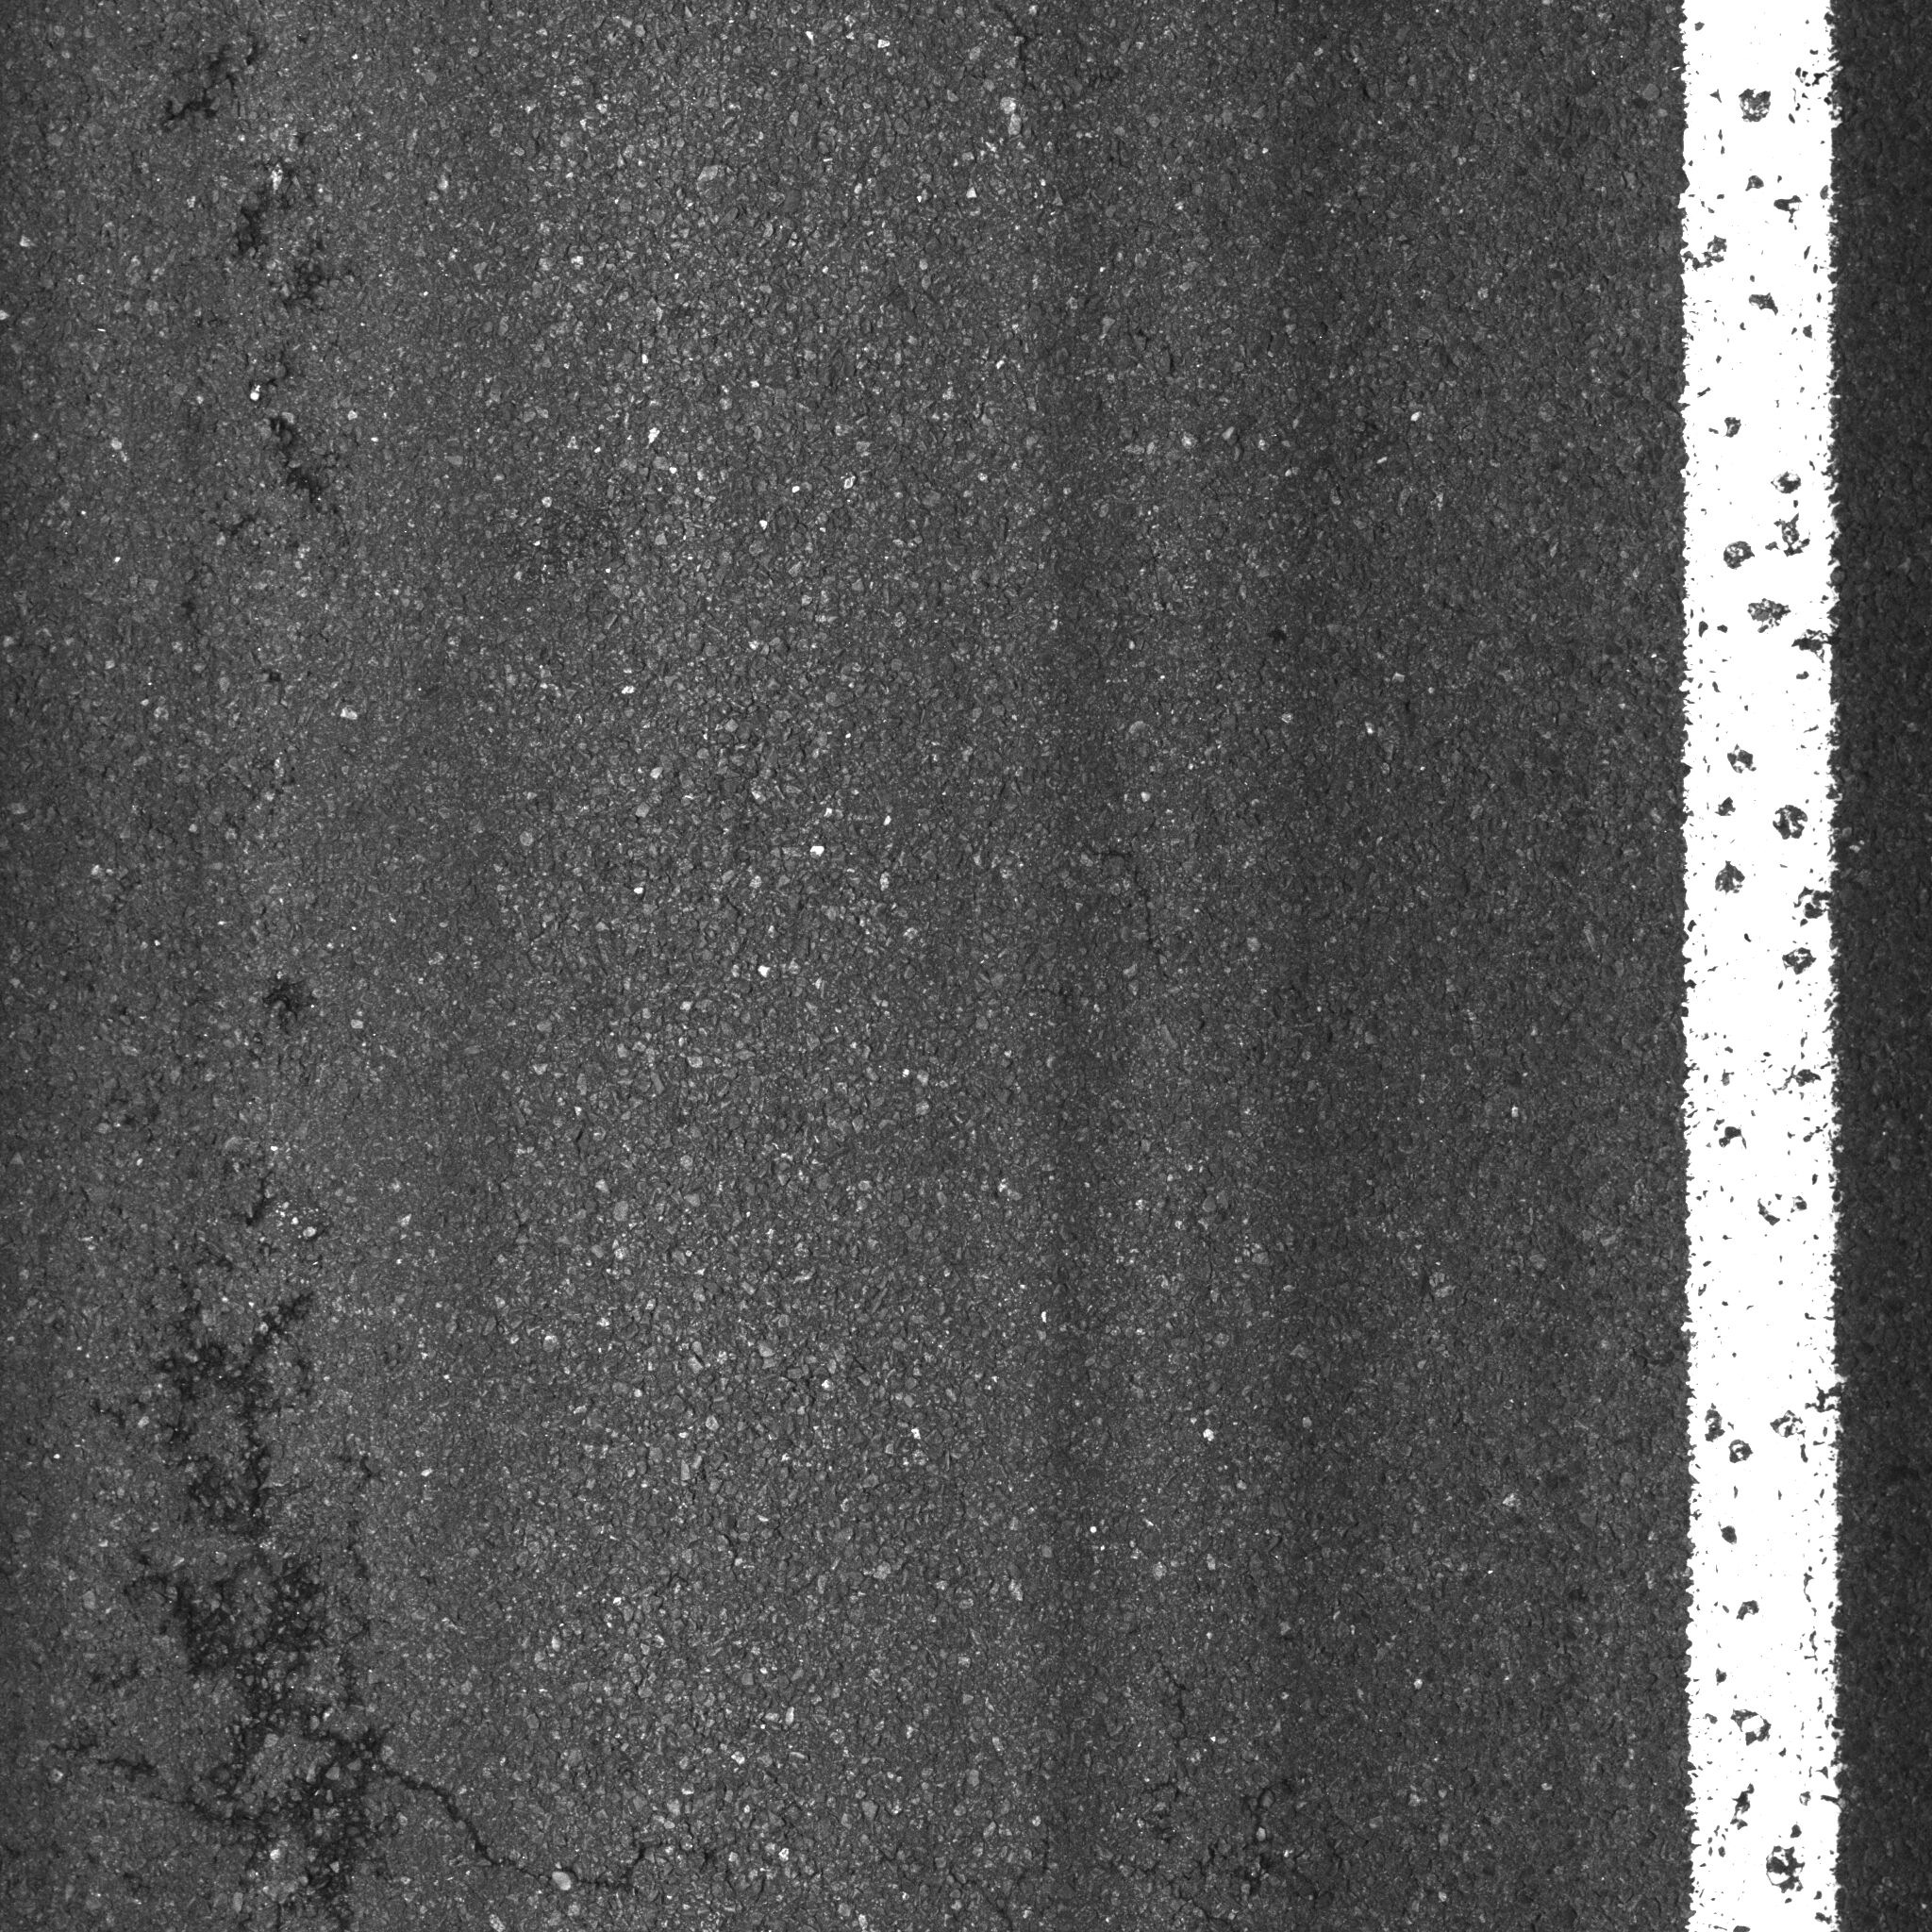transeverse: (315, 1721, 793, 1916)
